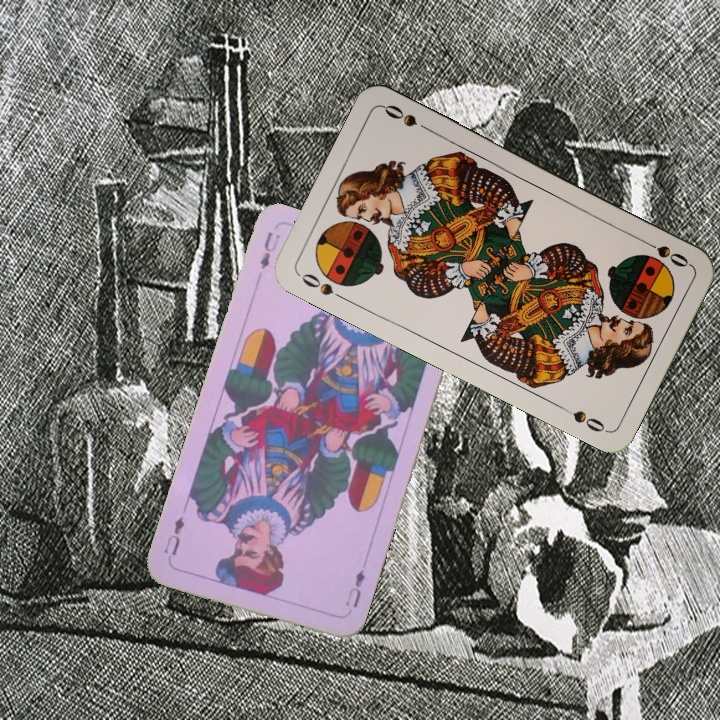EU: (341, 565, 368, 611), (256, 227, 283, 272)
SO: (637, 235, 692, 270), (297, 269, 350, 304)
